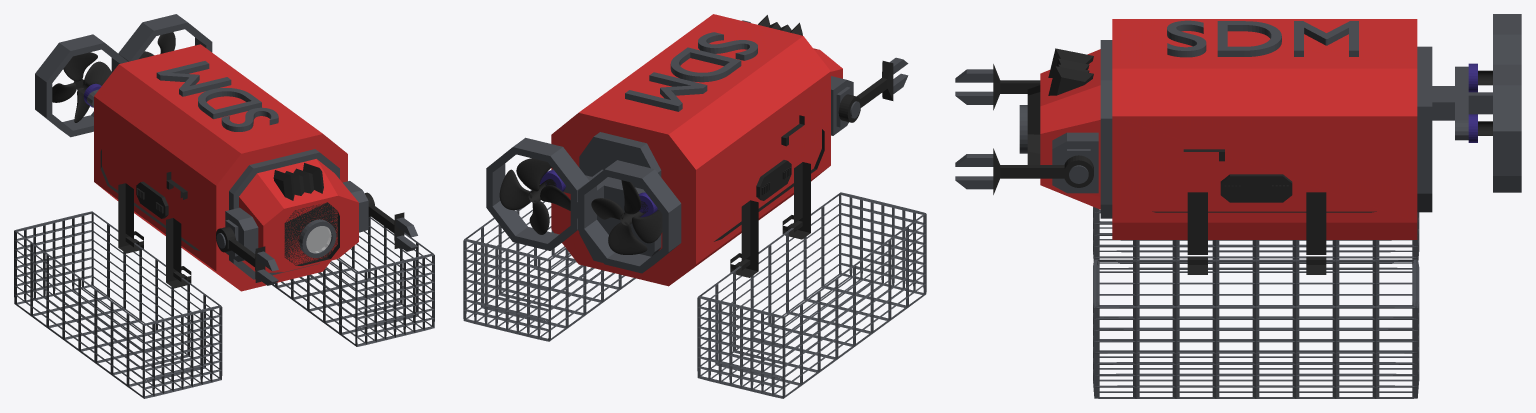
The model's file is collector_manual.glb.
3 views of the same model, side by side, from view 1: azimuth 30°, elevation 25°; view 2: azimuth 150°, elevation 25°; view 3: azimuth 270°, elevation 25° (orthographic). The views are drawn at different scales.
Visible parts, largest first — view 1: main_body, camera_lens; view 2: main_body; view 3: main_body.
Part boxes in pixels (x1,y1,x2,y2): main_body: [14, 14, 434, 398]; camera_lens: [306, 226, 331, 253]; main_body: [463, 14, 926, 398]; main_body: [955, 14, 1521, 398].
Size of the model in its own units: 4.09 by 2.95 by 5.53.
Materials: 2 (2 with a texture image).
